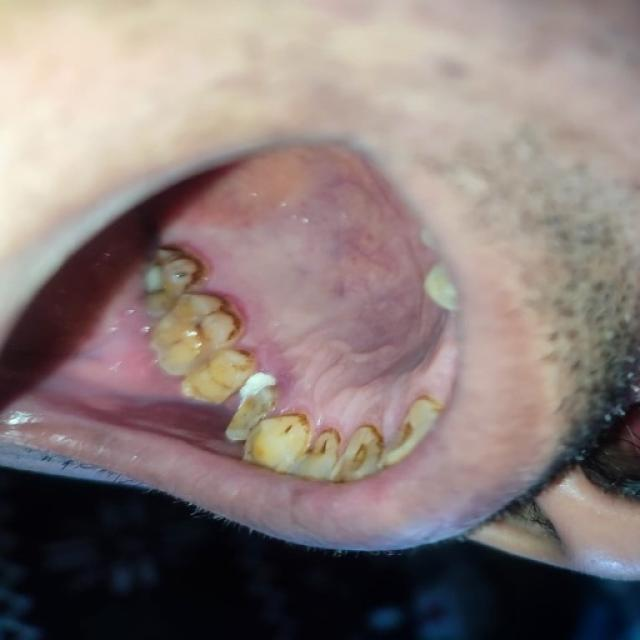leukoplakia-like-detection: (170, 193, 455, 436)
processing_area: (168, 150, 454, 442)
